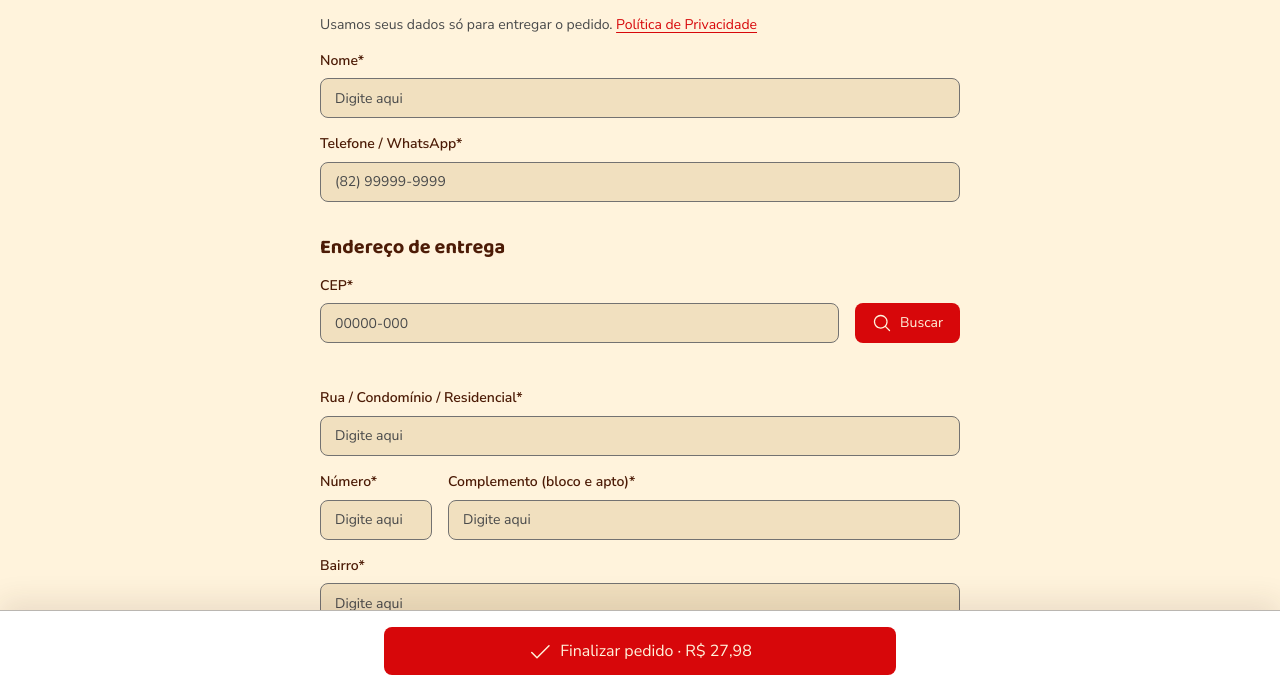
it: taxa de entrega por CEP no Seu pedido › trocar o CEP descarta a taxa anterior e calcula a nova
(page scrolled)
Type "57046000" into the field labelled "CEP*" at coordinates (580, 323), box [333,304,826,342]
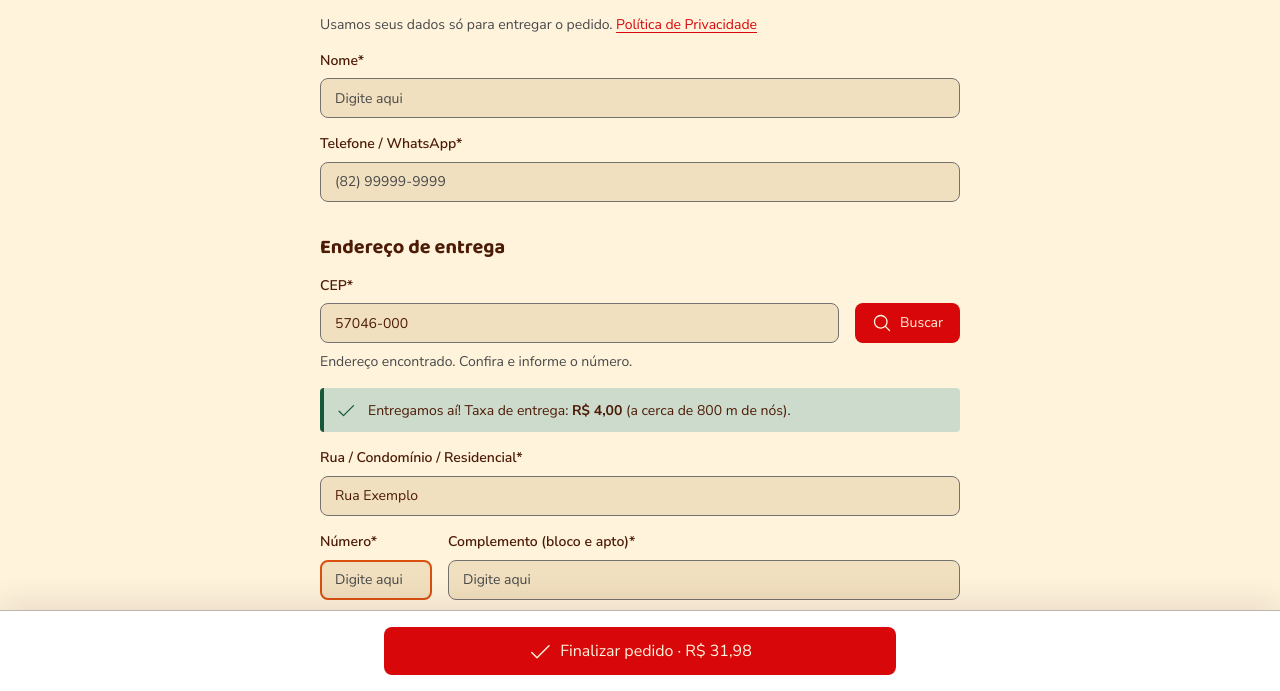
Expected: the text "Entregamos aí!" is shown, [368,401,572,420]
Clear the field labelled "CEP*" at coordinates (580, 323), box [333,304,826,342]
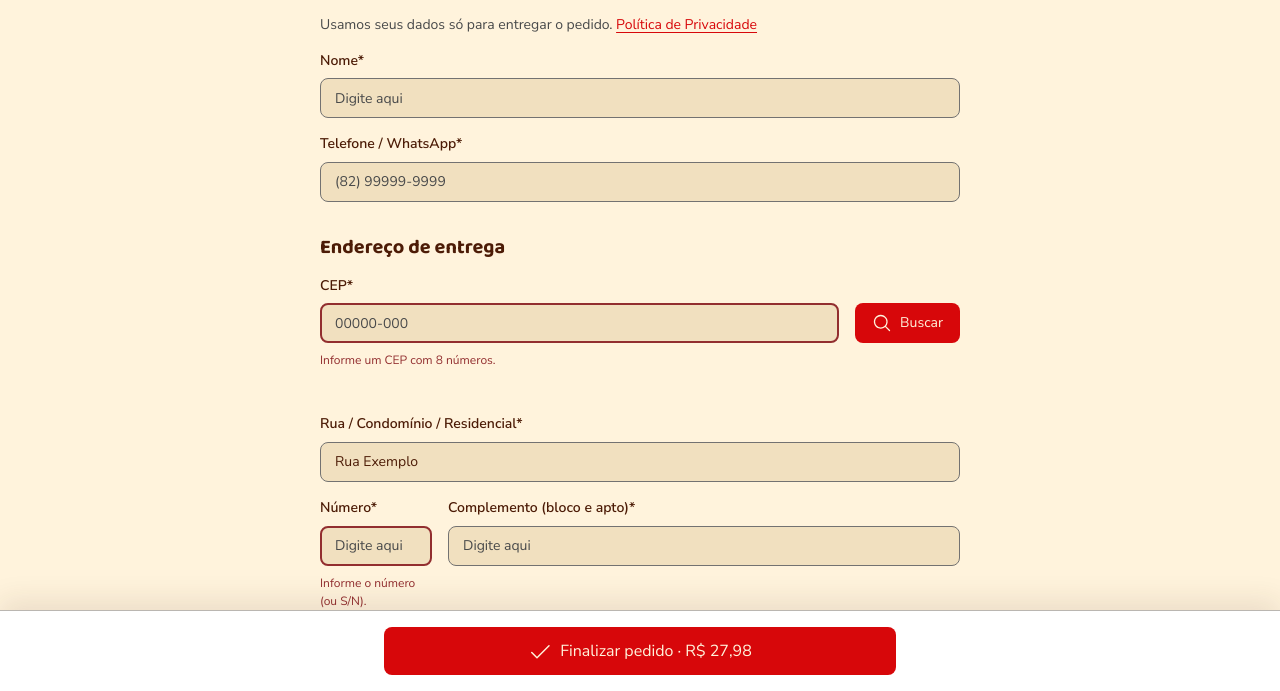
Type "57046100" into the field labelled "CEP*" at coordinates (580, 323), box [333,305,826,341]
(page scrolled)
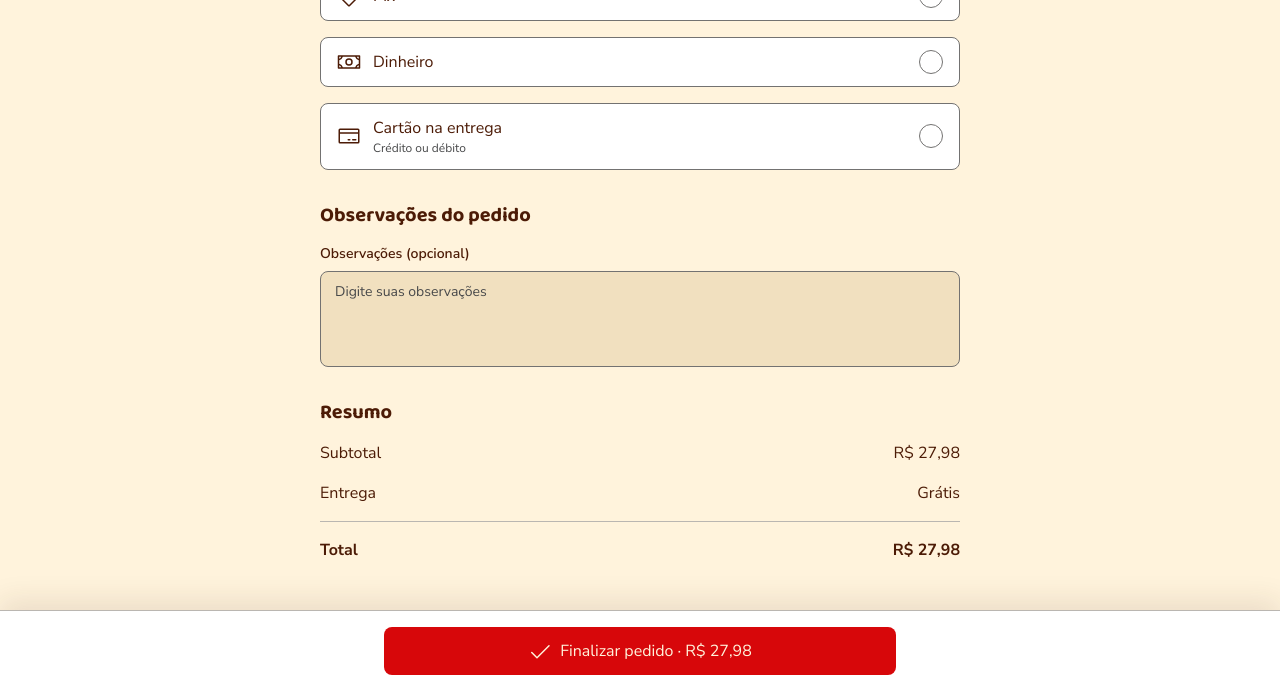
Expected: the text "Grátis" is shown, [917,481,960,505]
